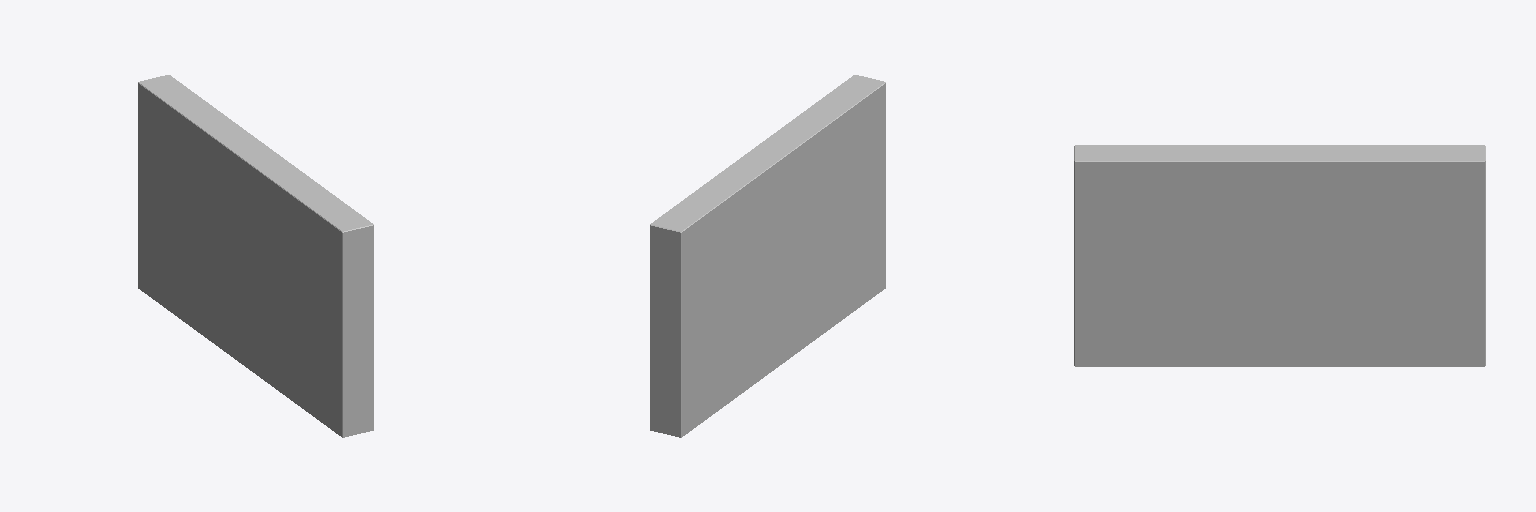
File: Wall_CountrySide.obj
3 renders of one model, left to right at view 1: azimuth 30°, elevation 25°; view 2: azimuth 150°, elevation 25°; view 3: azimuth 270°, elevation 25°, orthographic.
Parts seen in each view (by area): view 1: Wall_CountrySide; view 2: Wall_CountrySide; view 3: Wall_CountrySide.
Boxes of the visible parts, x1=… form: Wall_CountrySide: x1=138, y1=75, x2=373, y2=437; Wall_CountrySide: x1=650, y1=75, x2=885, y2=437; Wall_CountrySide: x1=1074, y1=145, x2=1485, y2=366.
Size of the model in its own units: 13.5 by 82.63 by 150.